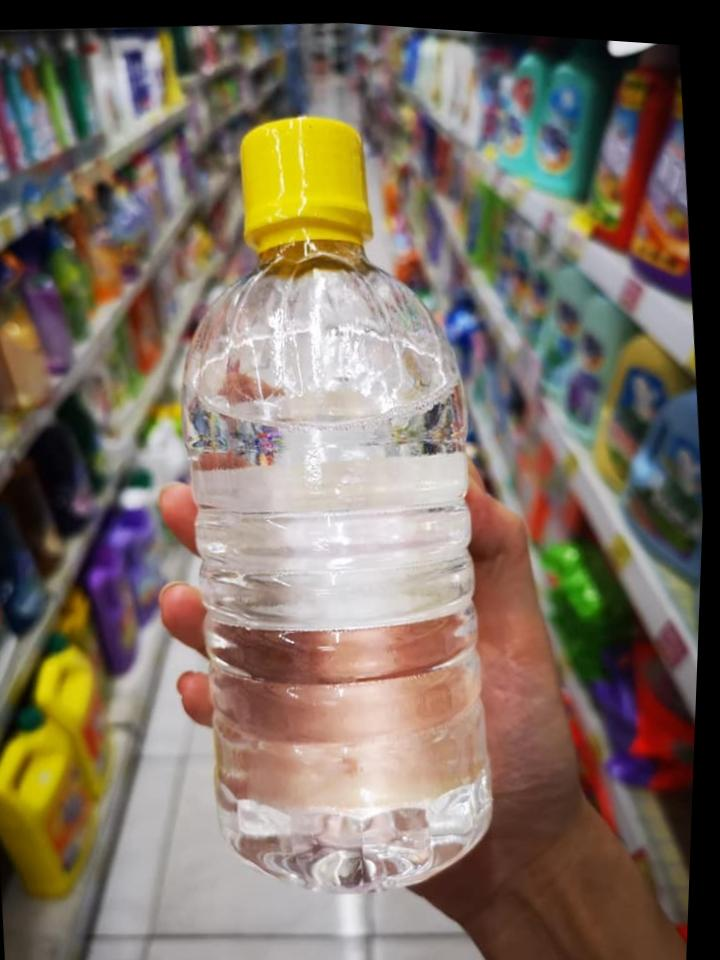plastic: (162, 116, 491, 890)
